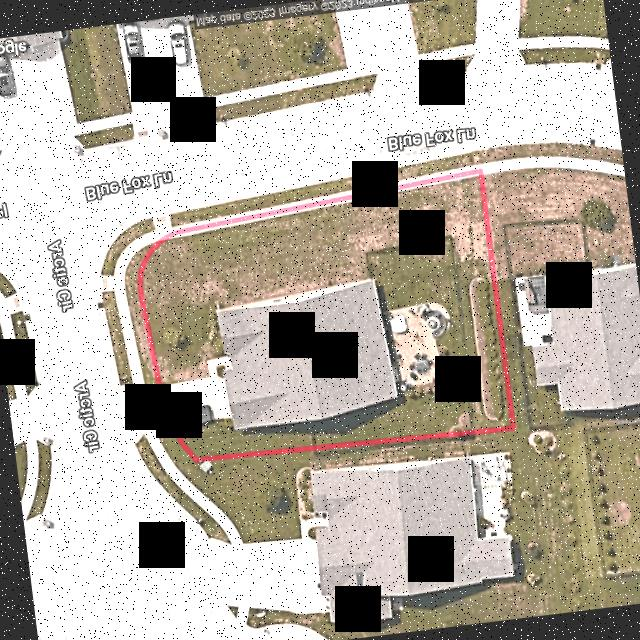Driveway: (163, 355, 229, 418)
Extra Driveway: (126, 386, 160, 441)
Extra Sidewalk: (113, 233, 149, 380), (145, 431, 180, 468)
House: (217, 279, 394, 429)
Other: (389, 301, 449, 385)
